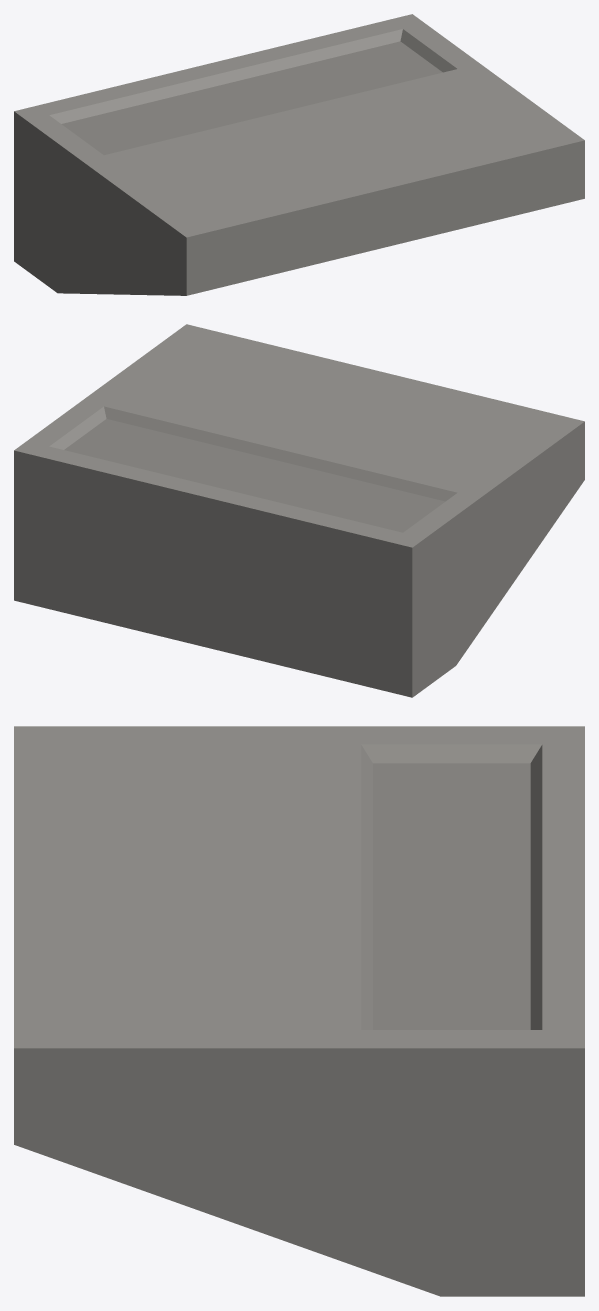
Rendered from SM_Props_Interior_Shop_Restaurant_Kitchen_RangeHood.fbx.
3 renders of one model, top to bottom at view 1: azimuth 30°, elevation 25°; view 2: azimuth 150°, elevation 25°; view 3: azimuth 270°, elevation 25°, orthographic. The views are drawn at different scales.
Visible parts, largest first — view 1: SM_Props_Interior_Shop_Restaurant_Kitchen_RangeHood; view 2: SM_Props_Interior_Shop_Restaurant_Kitchen_RangeHood; view 3: SM_Props_Interior_Shop_Restaurant_Kitchen_RangeHood.
Part boxes in pixels (x1,y1,x2,y2): SM_Props_Interior_Shop_Restaurant_Kitchen_RangeHood: (14,14,584,295); SM_Props_Interior_Shop_Restaurant_Kitchen_RangeHood: (14,324,584,697); SM_Props_Interior_Shop_Restaurant_Kitchen_RangeHood: (14,726,584,1296).
Bounding box in the file's own units: 100 × 36 × 75.
